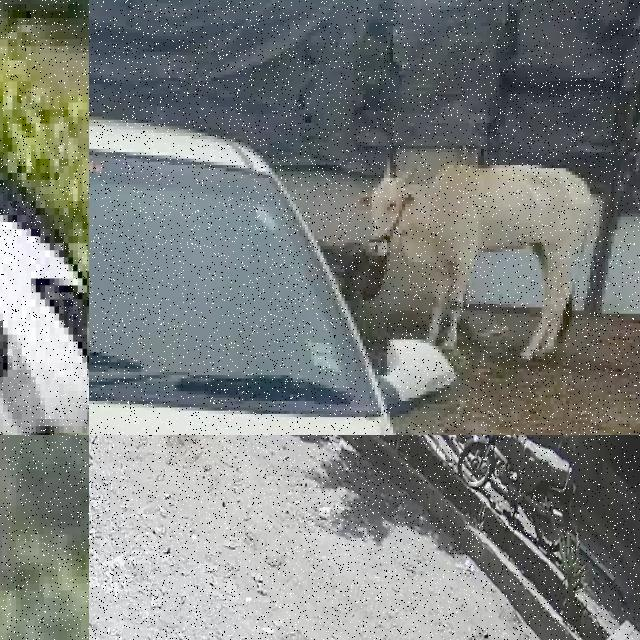bike: (0, 137, 89, 435), (457, 435, 575, 553)
car: (89, 78, 484, 435), (0, 435, 89, 640)
